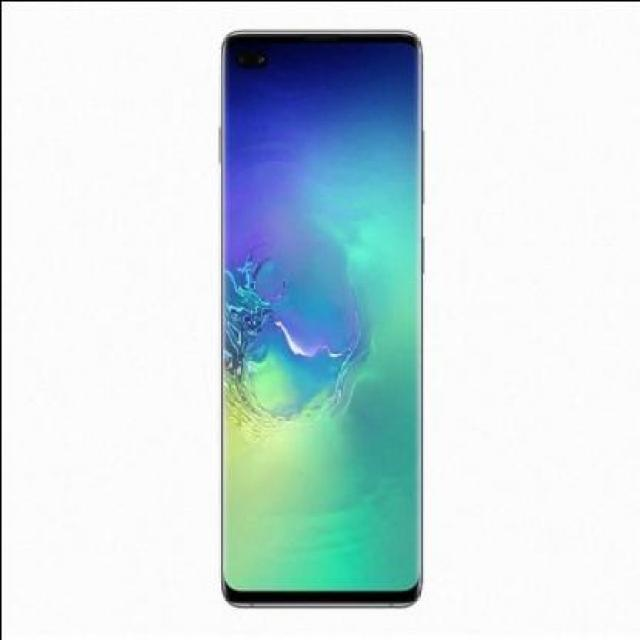phone: (216, 29, 427, 611)
